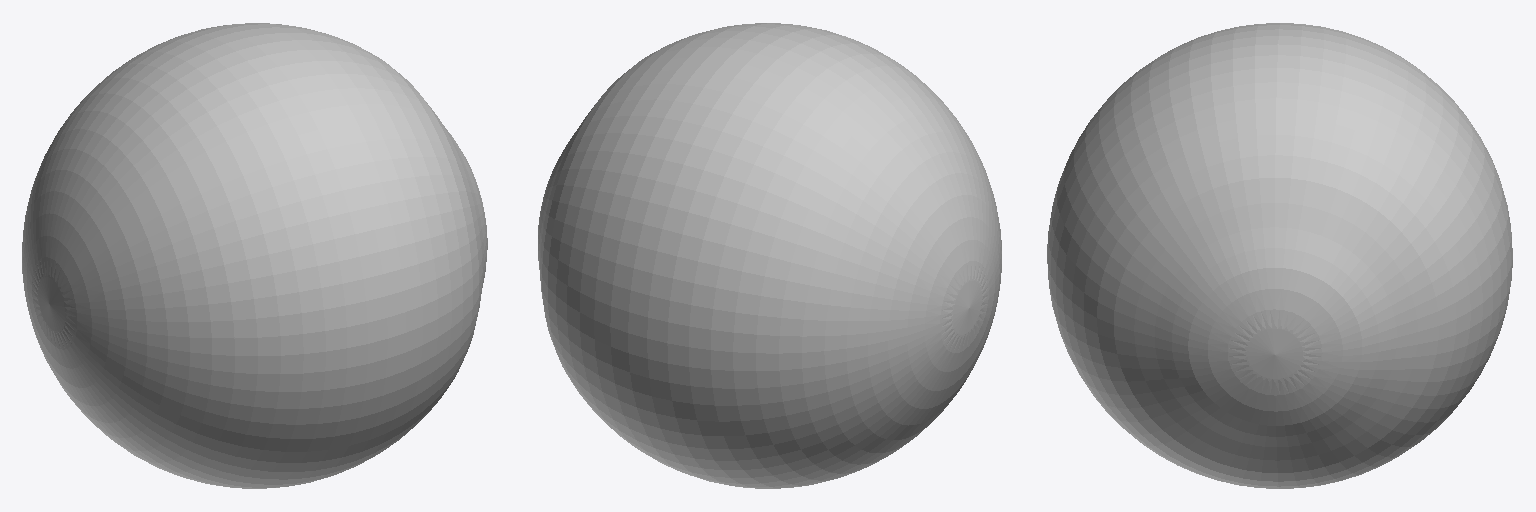
File: eye.obj
3 renders of one model, left to right at view 1: azimuth 30°, elevation 25°; view 2: azimuth 150°, elevation 25°; view 3: azimuth 270°, elevation 25°, orthographic.
Parts seen in each view (by area): view 1: Sphere; view 2: Sphere; view 3: Sphere.
Part boxes in pixels (x1,y1,x2,y2): Sphere: (22,23,487,488); Sphere: (538,23,1001,488); Sphere: (1047,23,1512,488).
Size of the model in its own units: 1.99 by 1.97 by 1.97.